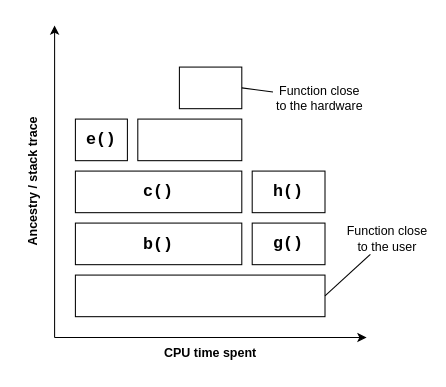
Image size: 446x387. Some labels were removed from this diagram. The box of each missing label's shape, as (x1, y1, x2, y2) in pixels:
a(): (74, 274, 325, 317)
d(): (137, 118, 242, 161)
f(): (178, 66, 242, 109)
